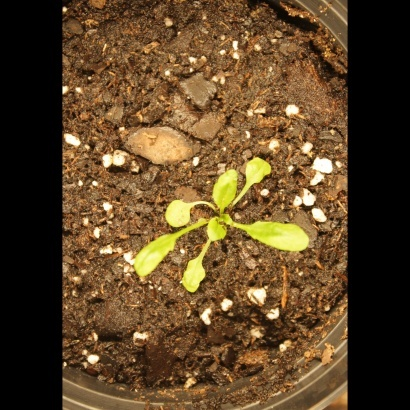leaf: (244, 212, 320, 256), (126, 231, 183, 280), (208, 163, 241, 211), (179, 245, 208, 296), (159, 192, 196, 230), (241, 149, 276, 189), (204, 213, 232, 246)
